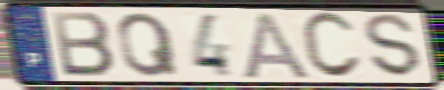4: (185, 11, 239, 80)
A: (238, 10, 314, 81)
B: (49, 10, 118, 79)
C: (299, 9, 365, 82)
Q: (115, 10, 182, 79)
S: (362, 12, 424, 80)
